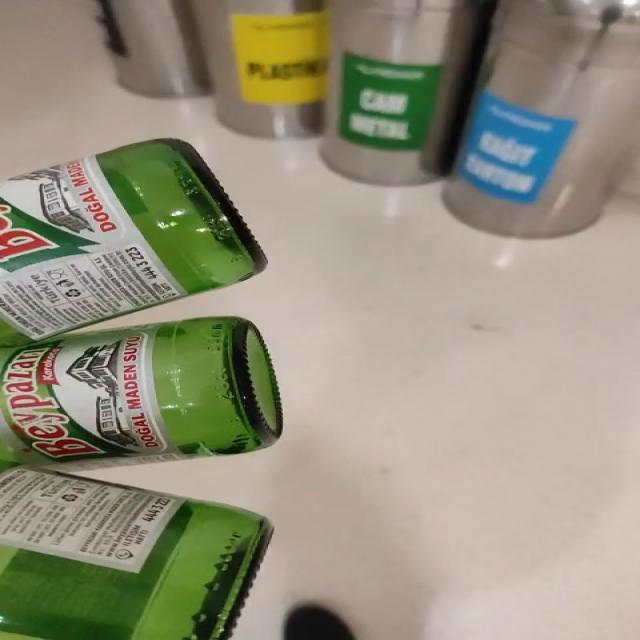bin: (321, 0, 493, 185)
